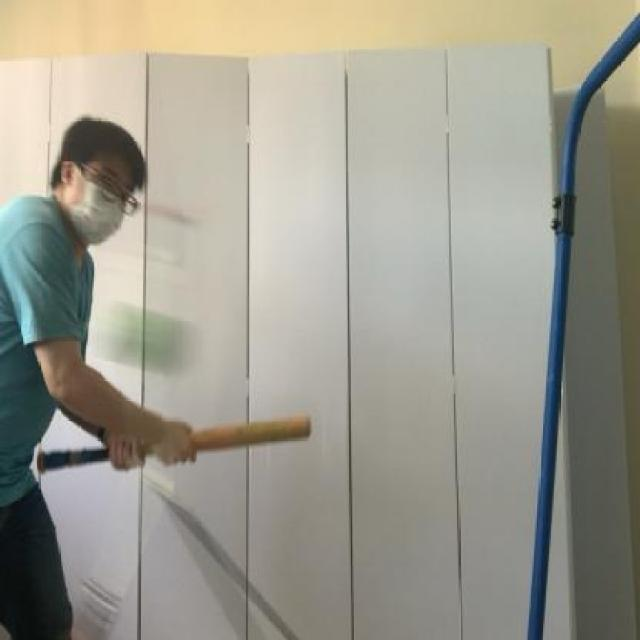baseball: (70, 293, 224, 395)
